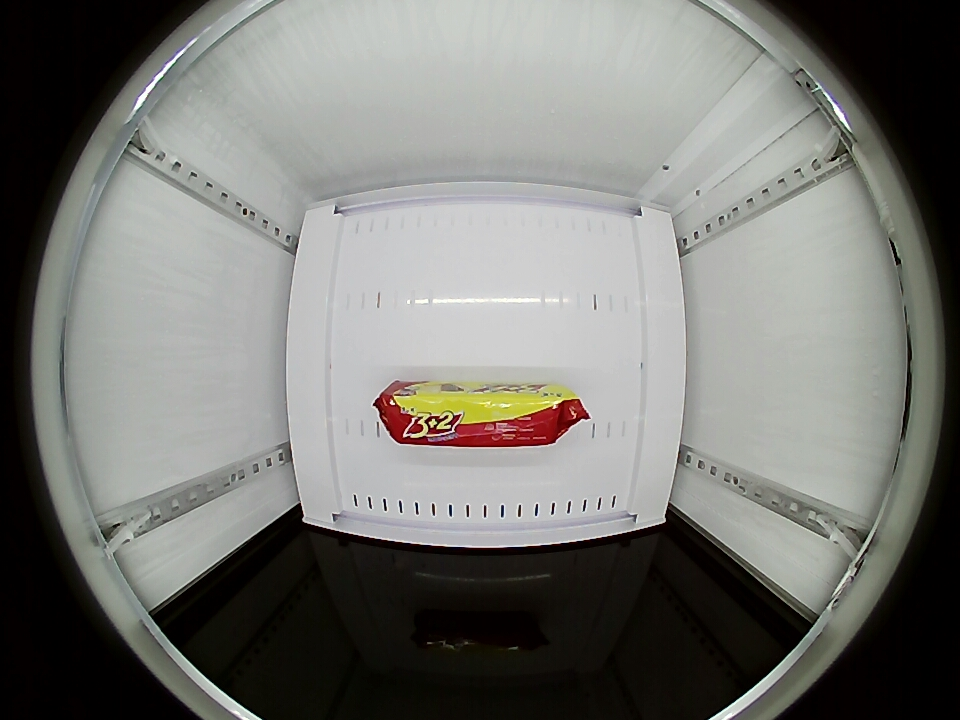3jia2: (373, 382, 584, 449)
